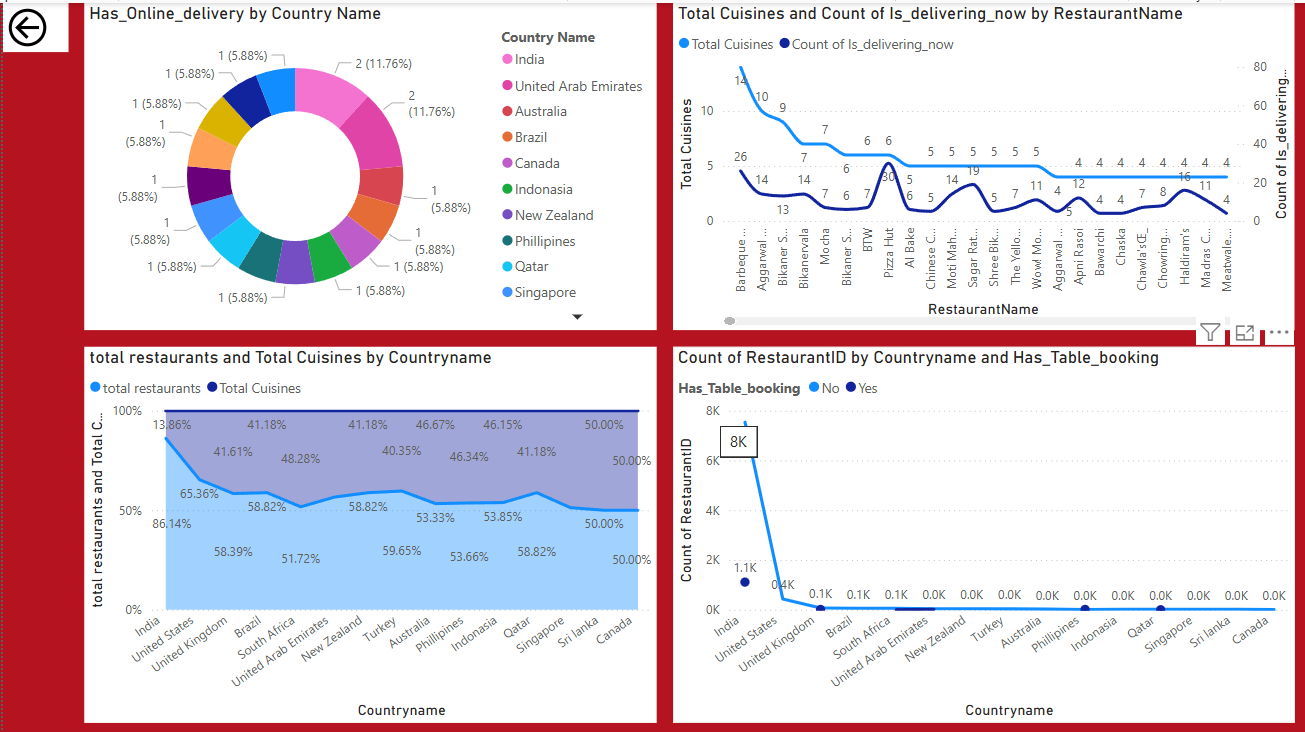

Layout of this report page (visuals, bound fields, positions):
{"tool":"powerbi","page":{"name":"Analytical View","canvas":[1280,720],"ordinal":1},"visuals":[{"type":"donutChart","fields":{"Category":["Restaurants.Countryname"],"Y":["Count(Restaurants.Has_Online_delivery)"]},"box":[80,0,560,320],"z":0},{"type":"actionButton","box":[0,0,64,48],"z":1000},{"type":"lineChart","fields":{"Category":["Restaurants.RestaurantName"],"Y":["Restaurants.Total Cuisines"],"Y2":["CountNonNull(Restaurants.Is_delivering_now)"]},"box":[656,0,608,320],"z":2000},{"type":"hundredPercentStackedAreaChart","fields":{"Category":["Restaurants.Countryname"],"Y":["Restaurants.total restaurants","Restaurants.Total Cuisines"]},"box":[80,336,560,368],"z":3000},{"type":"lineChart","fields":{"Y":["CountNonNull(Restaurants.RestaurantID)"],"Category":["Restaurants.Countryname"],"Series":["Restaurants.Has_Table_booking"]},"box":[656,336,608,368],"z":4000}]}

Visuals, with their boxes in screenshot pixels (x1, y1, x2, y2), scaled from the page's 1280x720 canvas onto the 1305x732 screenshot:
donutChart - Restaurants.Countryname x Count(Restaurants.Has_Online_delivery): <region>82, 0, 652, 325</region>
actionButton: <region>0, 0, 65, 49</region>
lineChart - Restaurants.RestaurantName x Restaurants.Total Cuisines: <region>669, 0, 1289, 325</region>
hundredPercentStackedAreaChart - Restaurants.Countryname x Restaurants.total restaurants: <region>82, 342, 652, 716</region>
lineChart - CountNonNull(Restaurants.RestaurantID) x Restaurants.Countryname: <region>669, 342, 1289, 716</region>
